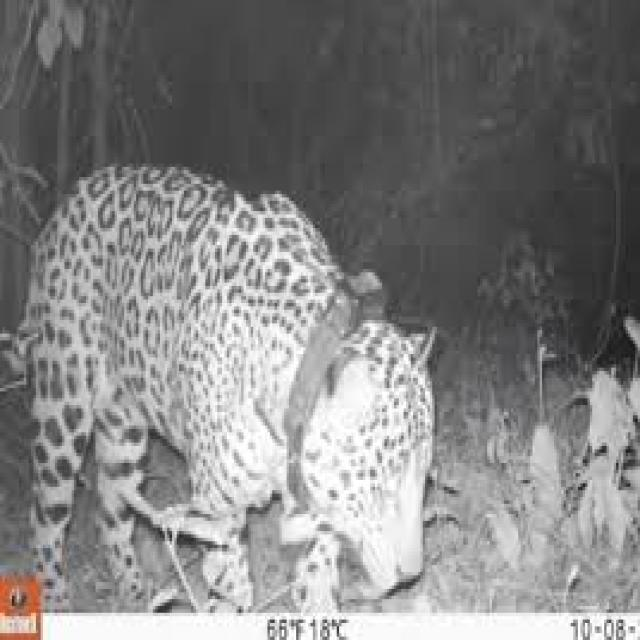Jaguar: (26, 163, 423, 610)
